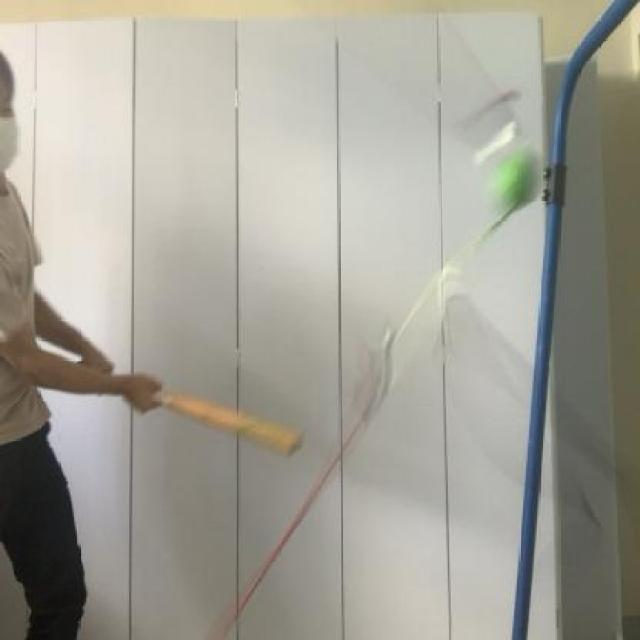baseball: (481, 123, 556, 232)
